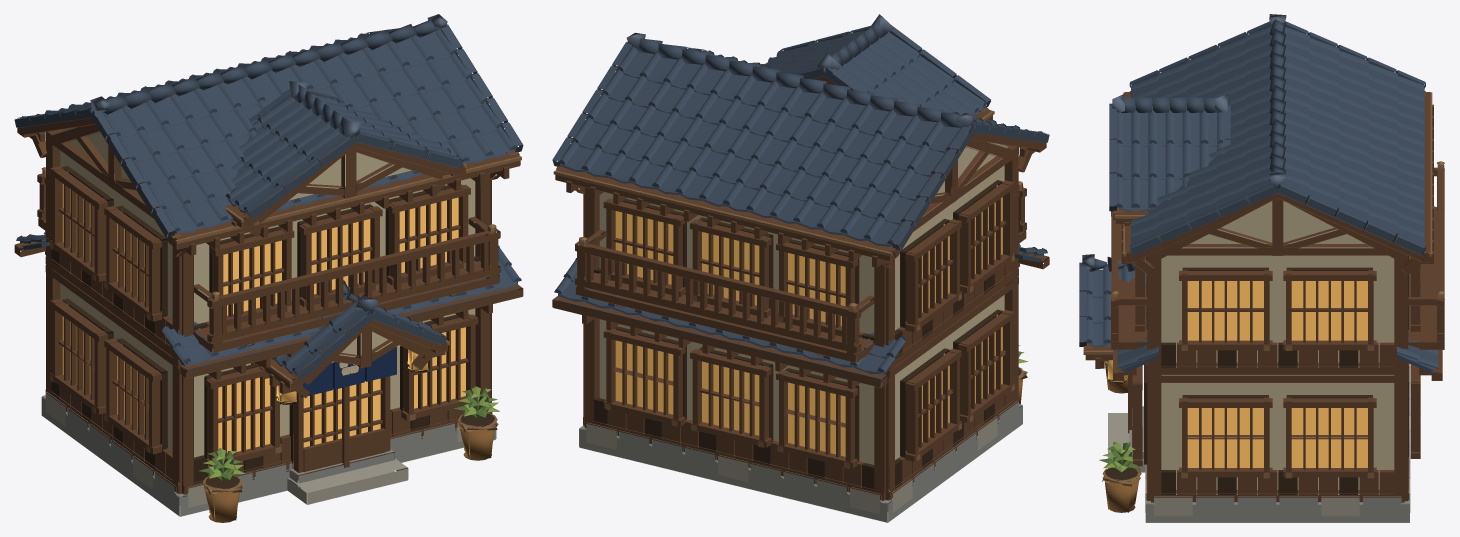
3 views of the same model, side by side, from view 1: azimuth 30°, elevation 25°; view 2: azimuth 150°, elevation 25°; view 3: azimuth 270°, elevation 25° (orthographic). The views are drawn at different scales.
Visible parts, largest first — view 1: compact_hotel_2_geometry, compact_hotel_2_geometry ceramic; view 2: compact_hotel_2_geometry, compact_hotel_2_geometry ceramic; view 3: compact_hotel_2_geometry, compact_hotel_2_geometry ceramic.
Part boxes in pixels (x1,y1,x2,y2): compact_hotel_2_geometry: (14,34,523,522); compact_hotel_2_geometry ceramic: (14,14,523,379); compact_hotel_2_geometry: (552,62,1049,522); compact_hotel_2_geometry ceramic: (552,14,1049,381); compact_hotel_2_geometry: (1083,91,1444,522); compact_hotel_2_geometry ceramic: (1079,14,1438,373).
Size of the model in its own units: 0.99 by 0.9805 by 0.9229.
